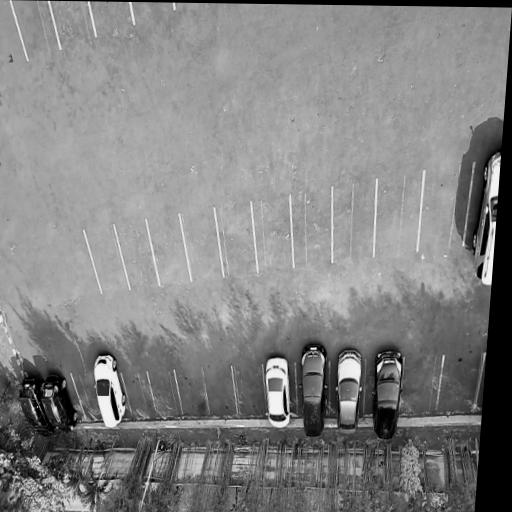Car: (468, 147, 502, 286), (369, 347, 405, 443), (90, 351, 130, 432), (40, 373, 82, 441), (299, 343, 327, 440), (17, 375, 56, 443), (335, 348, 364, 436), (264, 356, 294, 431)
Space Available: (418, 164, 474, 252), (374, 169, 424, 257), (333, 180, 376, 263), (291, 188, 332, 269), (114, 219, 160, 291), (214, 203, 258, 278), (146, 215, 191, 288), (180, 208, 224, 282), (251, 196, 293, 273), (84, 225, 130, 294), (10, 1, 61, 60), (436, 354, 485, 413), (400, 357, 443, 413), (49, 1, 96, 48), (232, 365, 267, 416), (202, 368, 237, 416), (174, 369, 209, 416), (122, 372, 157, 417), (148, 370, 182, 416), (89, 1, 134, 35), (71, 371, 101, 420)
